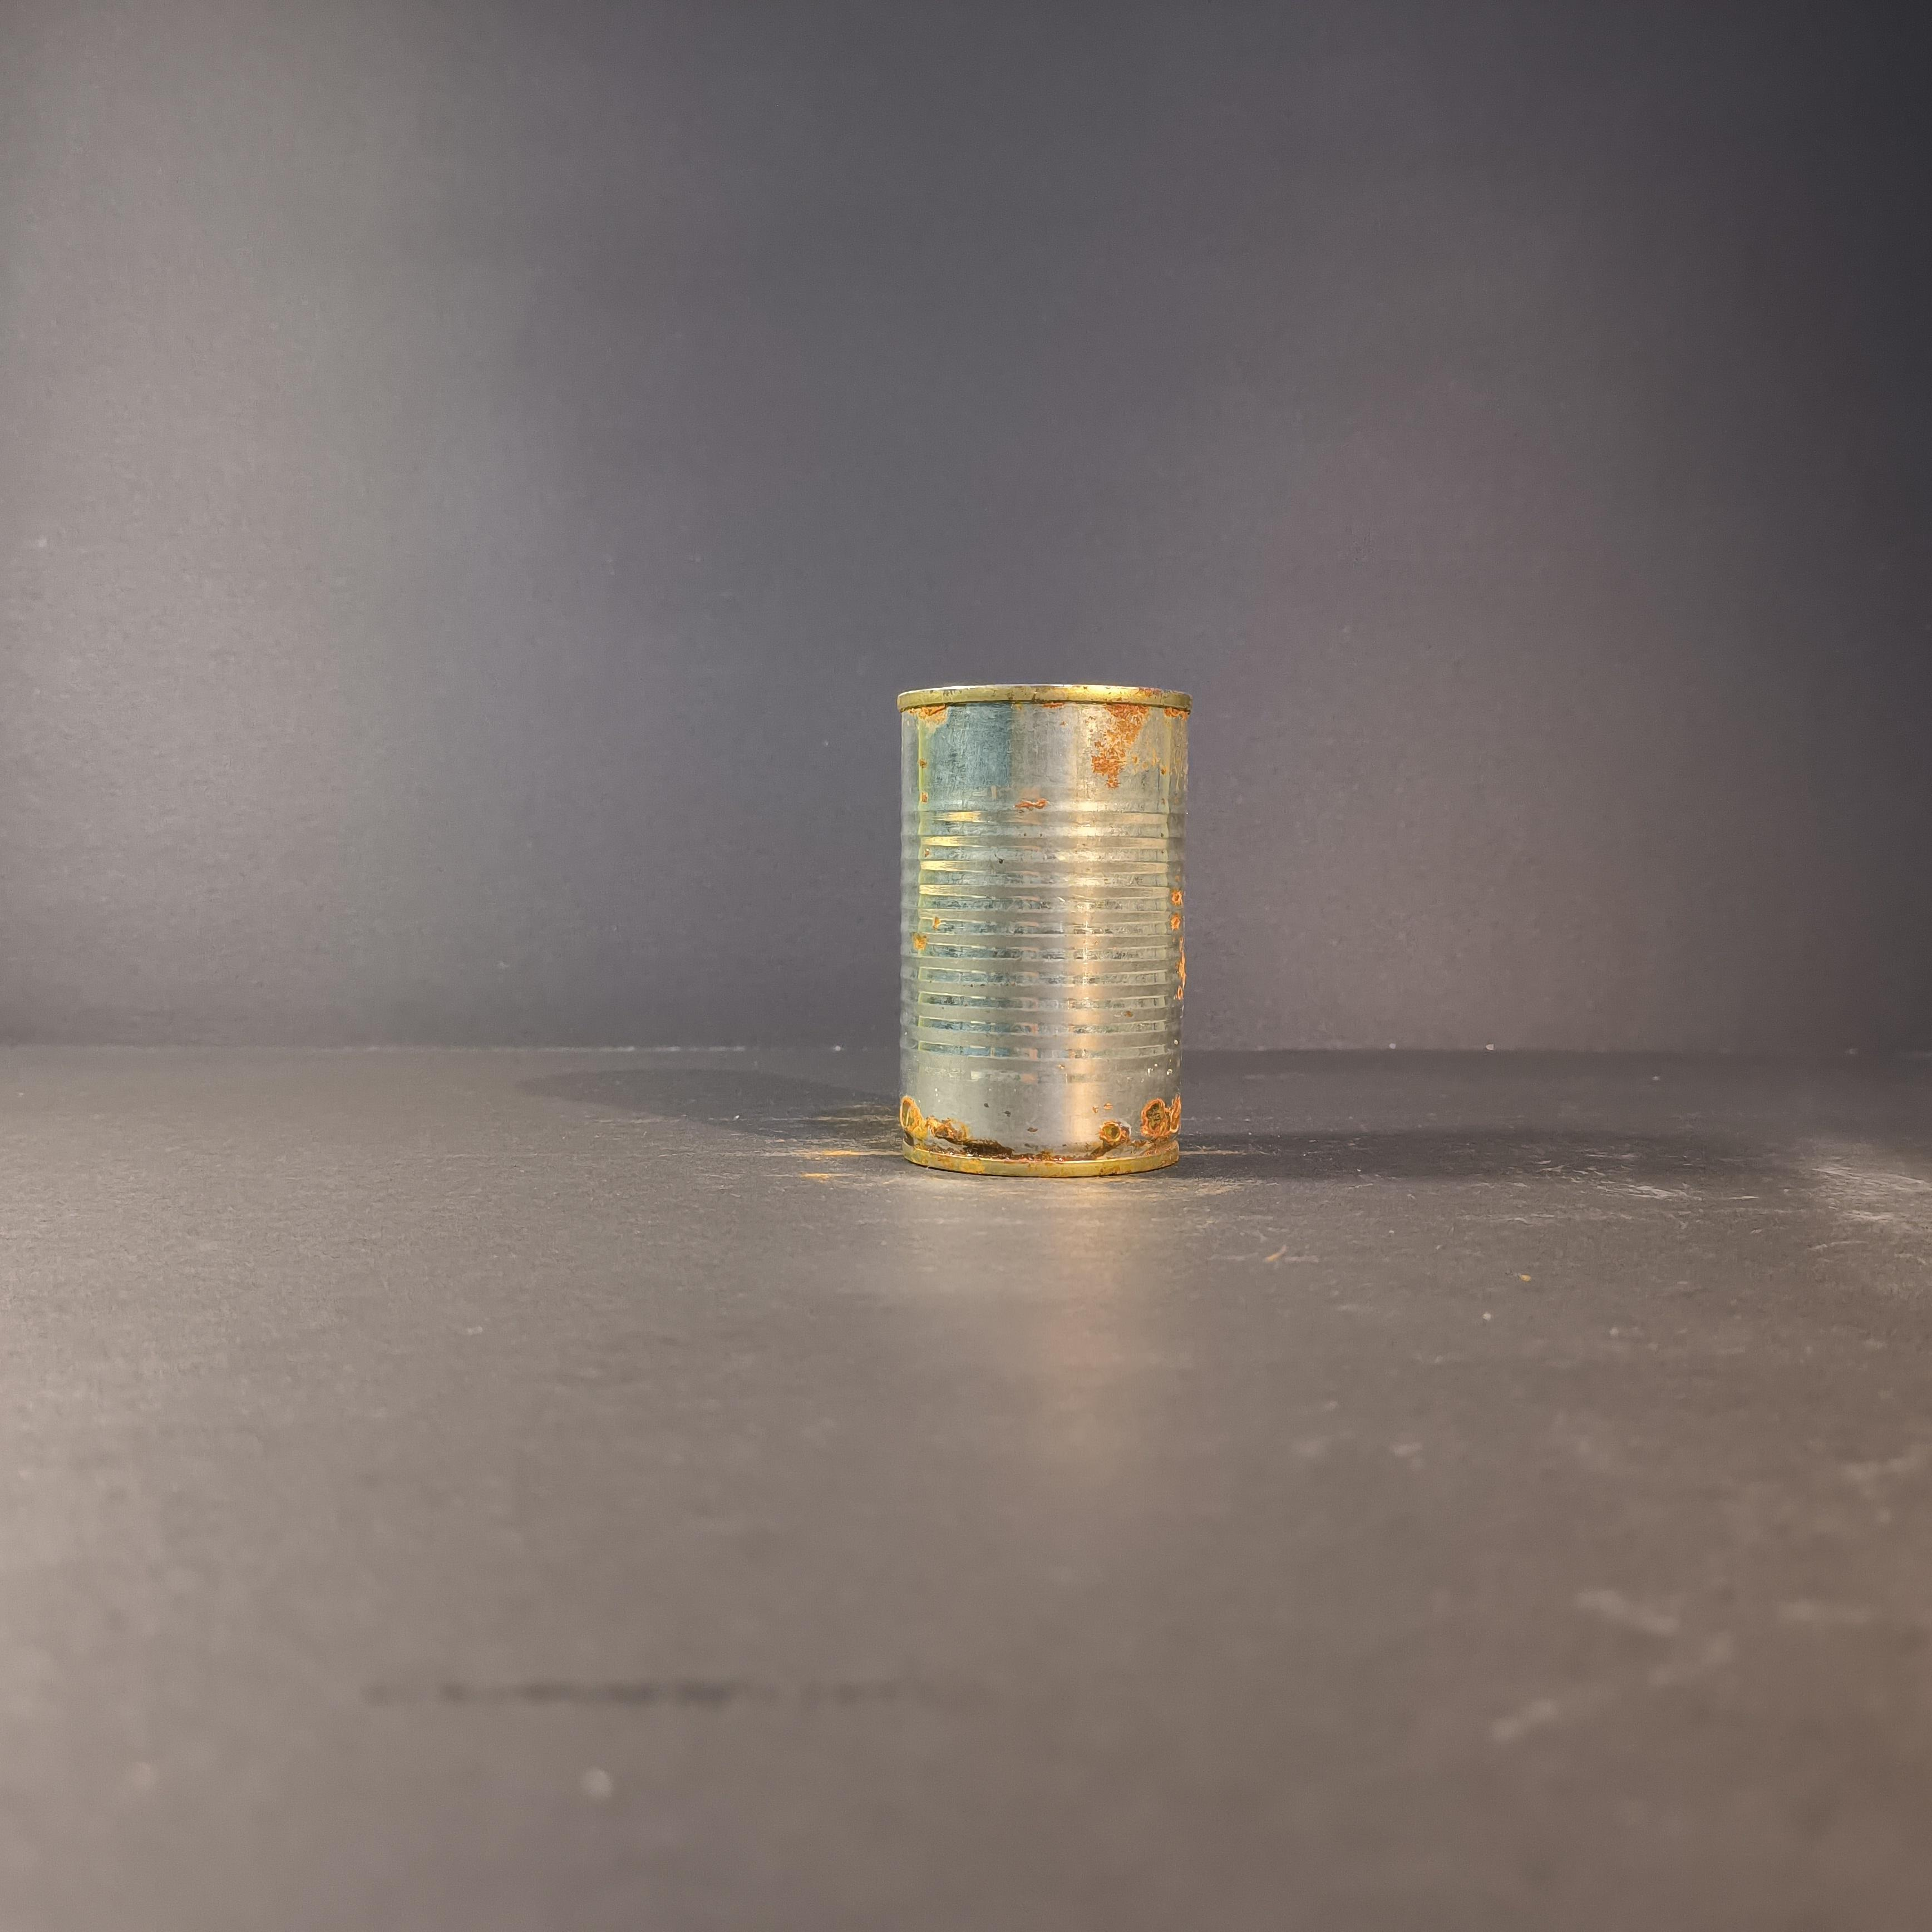Rusted: (890, 648, 1214, 1201)
